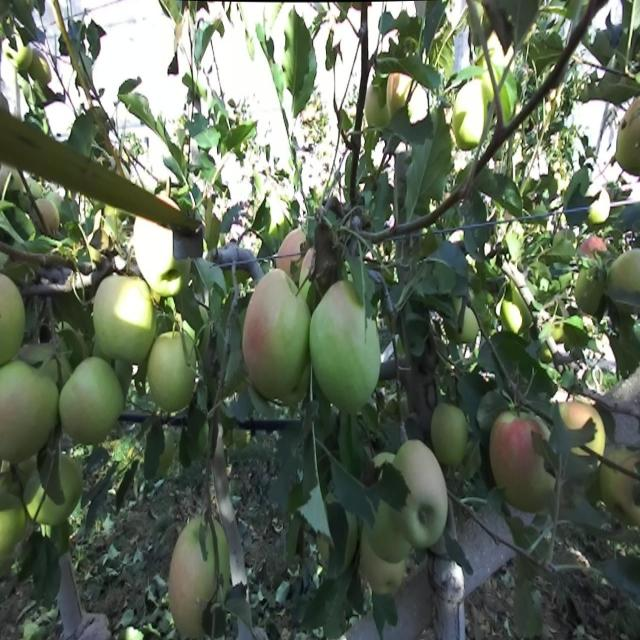apple: (244, 269, 312, 411), (316, 276, 378, 411), (168, 511, 229, 638), (0, 355, 63, 469), (496, 419, 557, 521), (60, 362, 128, 450), (108, 269, 157, 368), (168, 518, 219, 612), (488, 412, 546, 494), (504, 435, 555, 521), (148, 333, 197, 418), (136, 228, 186, 304), (112, 276, 156, 356), (452, 77, 491, 155), (272, 349, 312, 418), (576, 234, 609, 316), (432, 404, 471, 471), (48, 454, 84, 526), (0, 276, 28, 368), (476, 29, 509, 105), (600, 461, 640, 519), (276, 234, 311, 297), (572, 255, 605, 316), (0, 497, 28, 560), (616, 106, 640, 176), (180, 419, 211, 473), (156, 248, 185, 304), (608, 248, 640, 297), (480, 28, 508, 84), (500, 291, 532, 338), (560, 390, 591, 437), (88, 220, 118, 267), (388, 70, 414, 119), (368, 84, 392, 135), (580, 234, 609, 276), (224, 419, 252, 460), (408, 84, 430, 128), (588, 412, 608, 460), (28, 483, 48, 526), (468, 0, 491, 34)
